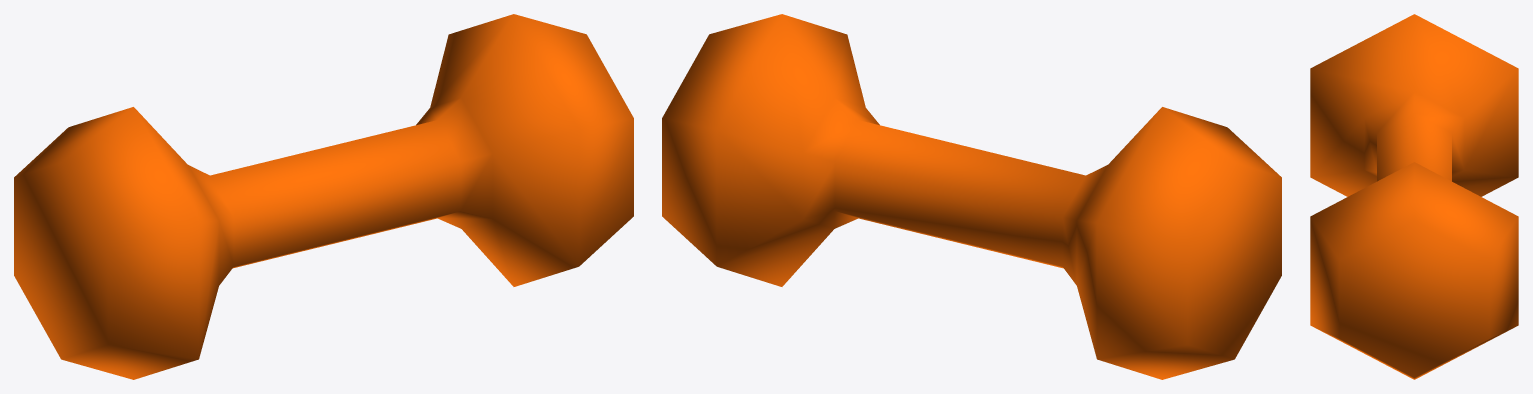
Rendered from Weight_05.FBX.
3 views of the same model, side by side, from view 1: azimuth 30°, elevation 25°; view 2: azimuth 150°, elevation 25°; view 3: azimuth 270°, elevation 25° (orthographic). The views are drawn at different scales.
Parts seen in each view (by area): view 1: Weight; view 2: Weight; view 3: Weight.
Boxes of the visible parts, bbox=[...] form: Weight: bbox=[14, 14, 633, 379]; Weight: bbox=[662, 14, 1281, 379]; Weight: bbox=[1310, 14, 1518, 379].
Size of the model in its own units: 78.32 by 38.91 by 33.69.
